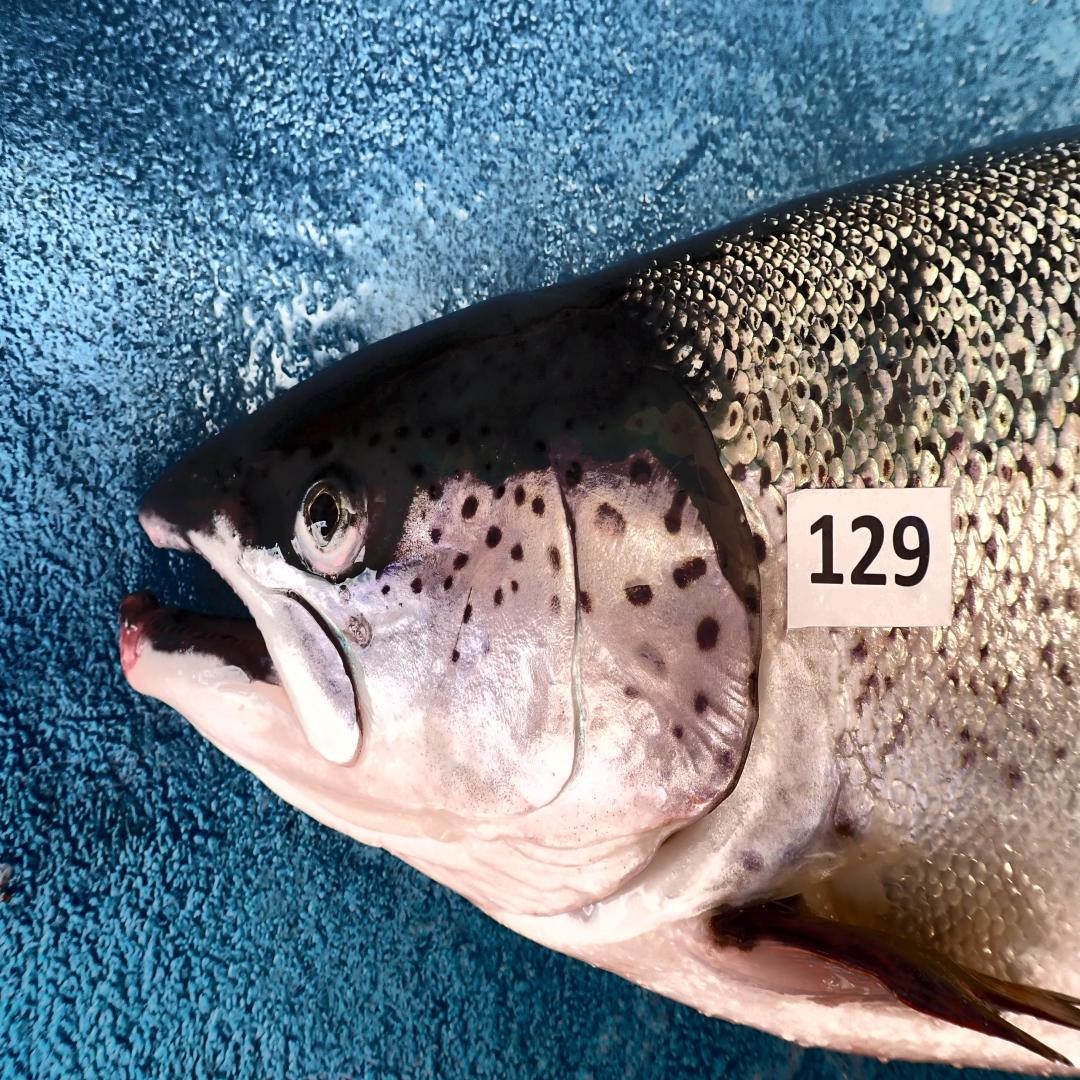spot: (634, 643, 670, 677), (664, 489, 688, 534), (673, 557, 707, 588), (595, 503, 626, 534), (625, 577, 652, 608), (696, 616, 719, 650), (631, 458, 652, 484), (462, 495, 479, 520), (565, 464, 582, 489), (485, 526, 502, 548), (428, 478, 442, 502), (548, 546, 561, 571), (694, 692, 708, 715), (513, 482, 526, 506), (719, 751, 732, 773), (511, 541, 524, 561), (580, 591, 591, 613), (454, 554, 468, 571), (549, 595, 560, 616), (410, 578, 423, 594), (532, 498, 544, 515), (624, 687, 639, 700), (463, 604, 472, 625), (493, 587, 502, 607), (442, 575, 453, 591), (432, 528, 441, 544), (674, 725, 683, 738), (496, 485, 504, 499), (451, 650, 459, 663), (511, 580, 518, 593), (381, 585, 389, 595)
